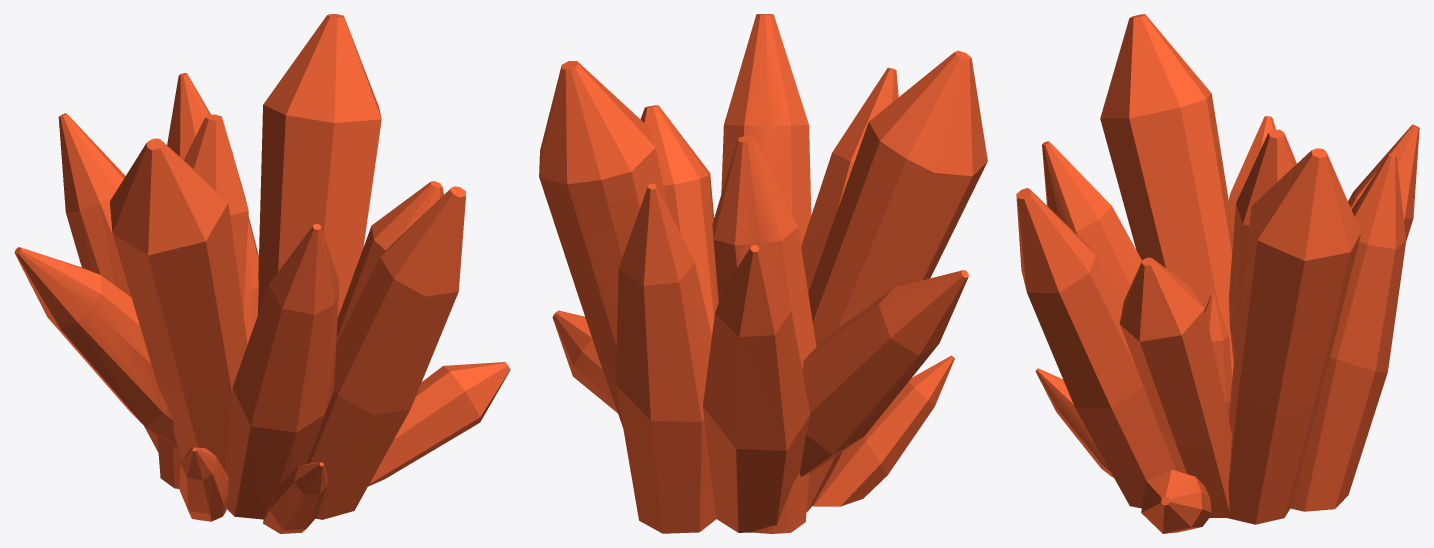
Rendered from Prop_Crystal_Orange_01.fbx.
The picture shows the model from 3 angles, left to right: view 1: azimuth 30°, elevation 25°; view 2: azimuth 150°, elevation 25°; view 3: azimuth 270°, elevation 25°; orthographic projection. The views are drawn at different scales.
Visible parts, largest first — view 1: Prop_Crystal_Orange_01; view 2: Prop_Crystal_Orange_01; view 3: Prop_Crystal_Orange_01.
Part boxes in pixels (x1,y1,x2,y2): Prop_Crystal_Orange_01: [14, 14, 510, 533]; Prop_Crystal_Orange_01: [539, 14, 987, 533]; Prop_Crystal_Orange_01: [1016, 14, 1419, 533].
Size of the model in its own units: 1264 by 1133 by 1034.
